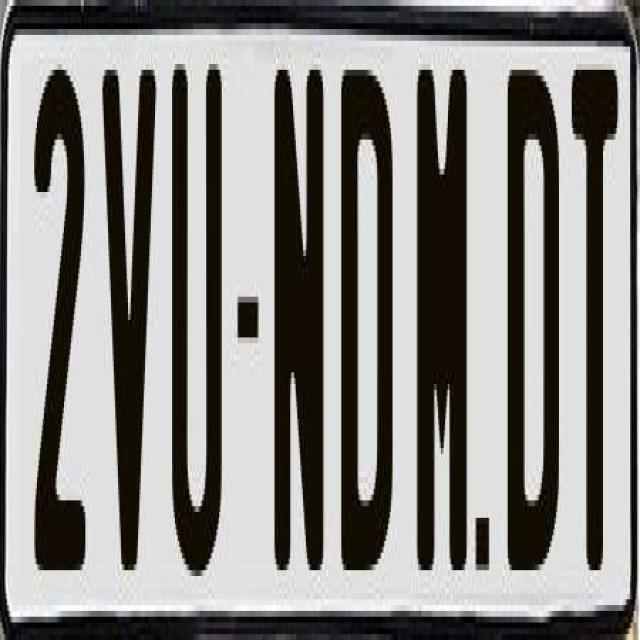2: (30, 64, 86, 576)
D: (340, 64, 392, 576), (508, 52, 560, 564)
M: (416, 63, 470, 564)
N: (270, 52, 324, 558)
T: (569, 63, 620, 564)
U: (170, 47, 220, 564)
V: (100, 52, 154, 553)
